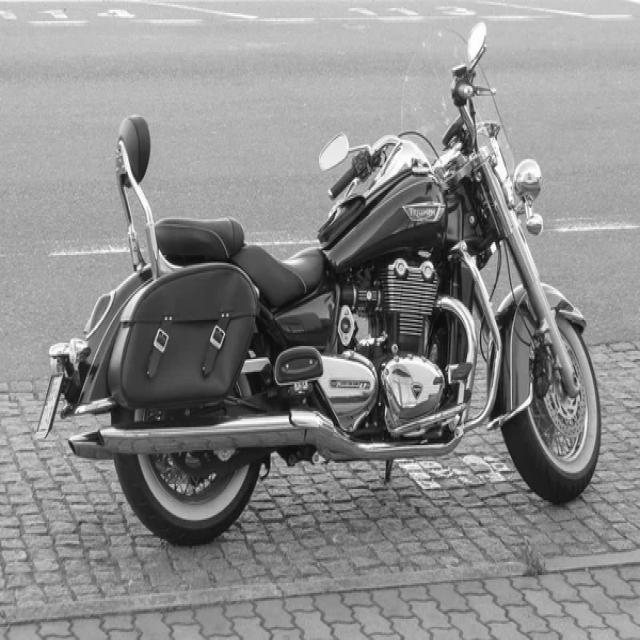Motorcycle: (37, 21, 603, 545)
